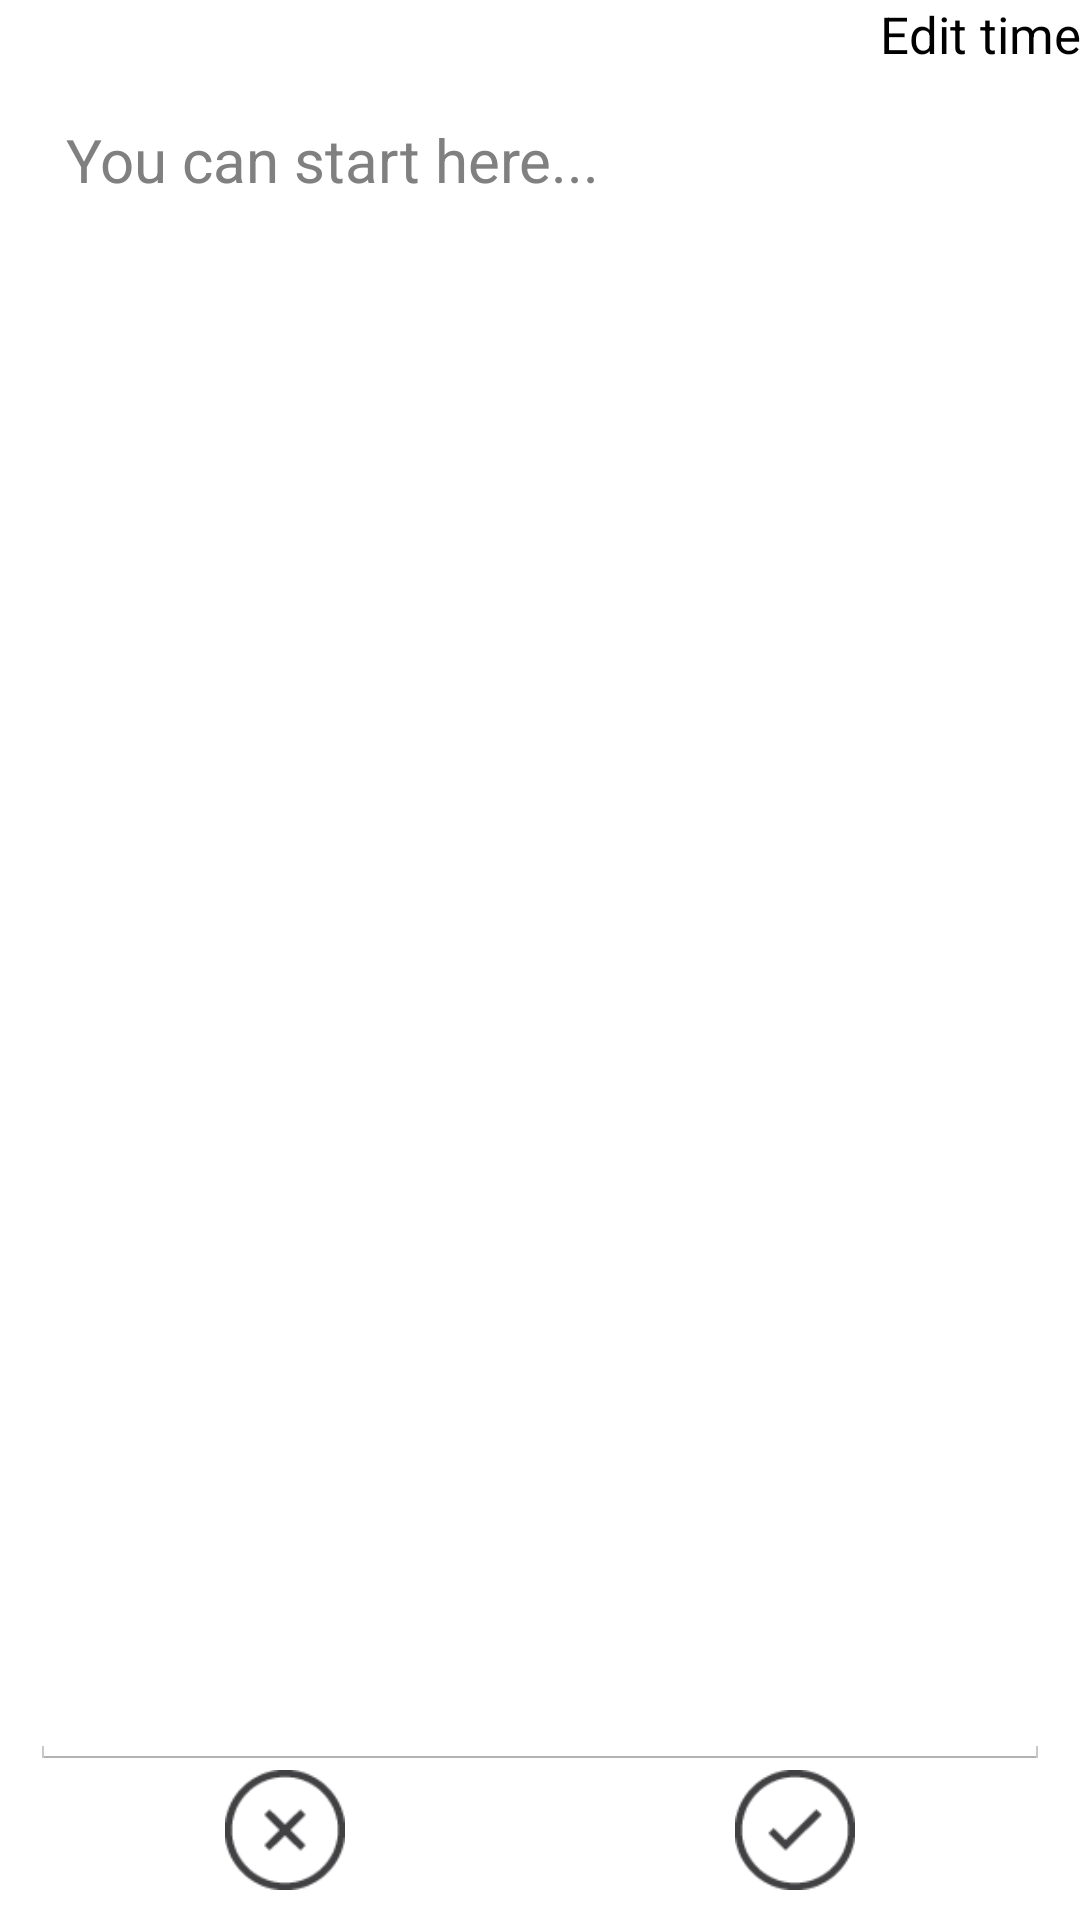

Named icons in this screenshot (1080*1920) and their centers, [x,y]:
cancle: [285,1830]
